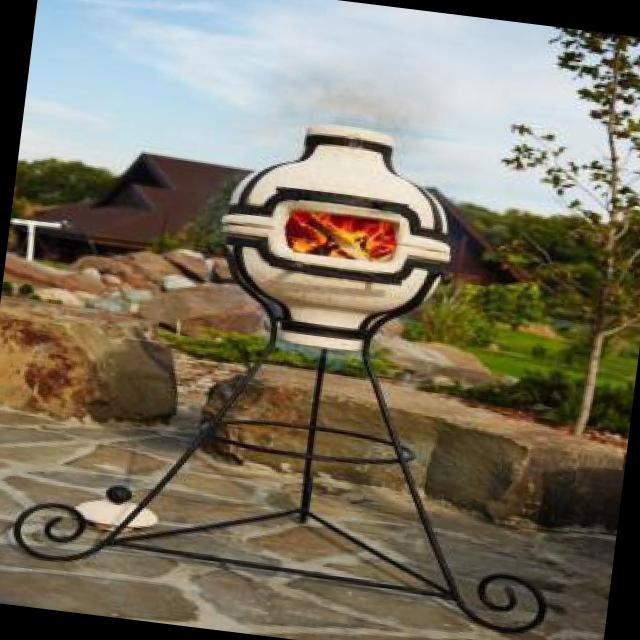fire: (291, 198, 401, 272)
